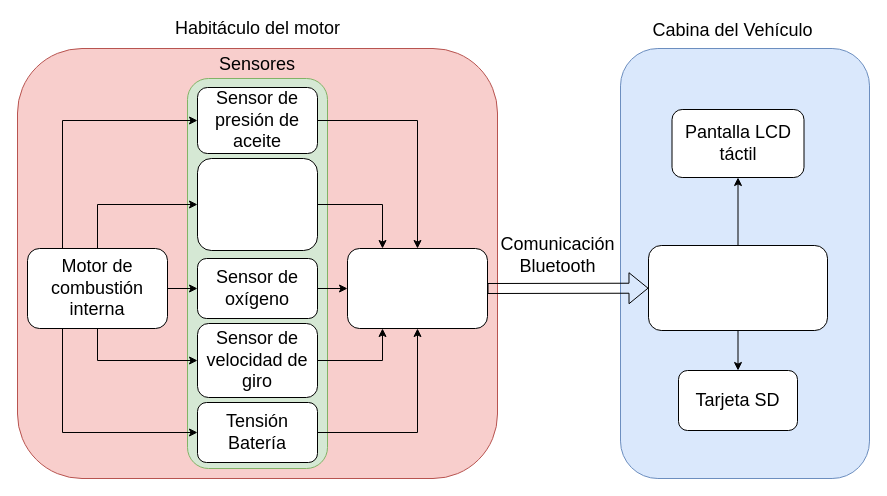
Image size: 887x496. Some labels were removed from this diagram. Each missing label, with the centre of its shape:
"Dispositivo móvil (Tablet) o Single board computer" goes at point 738,287.
"Sensor de temperatura de admisión y escape." goes at point 257,204.
"Sistema adquisidor" goes at point 417,288.
